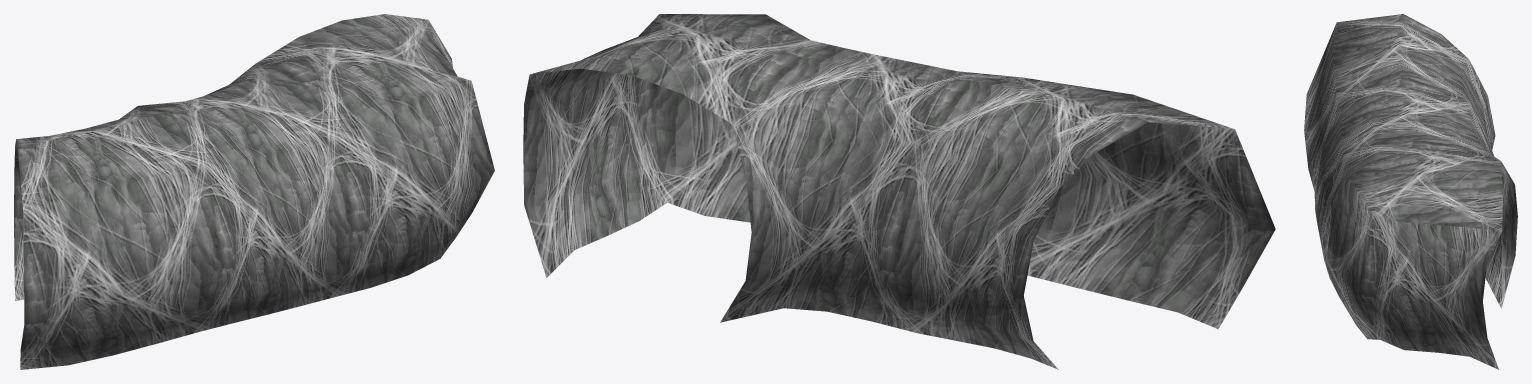
File: SWORDLIGHT20_PS-AREA01_28.fbx
3 renders of one model, left to right at view 1: azimuth 30°, elevation 25°; view 2: azimuth 150°, elevation 25°; view 3: azimuth 270°, elevation 25°, orthographic. The views are drawn at different scales.
Parts seen in each view (by area): view 1: SWORDLIGHT20_PS-AREA01_28; view 2: SWORDLIGHT20_PS-AREA01_28; view 3: SWORDLIGHT20_PS-AREA01_28.
Part boxes in pixels (<box>): SWORDLIGHT20_PS-AREA01_28: <box>14,14,494,369</box>; SWORDLIGHT20_PS-AREA01_28: <box>523,14,1275,369</box>; SWORDLIGHT20_PS-AREA01_28: <box>1304,14,1517,369</box>.
Size of the model in its own units: 155906 by 56269 by 64226.
Materials: 1 (1 with a texture image).
